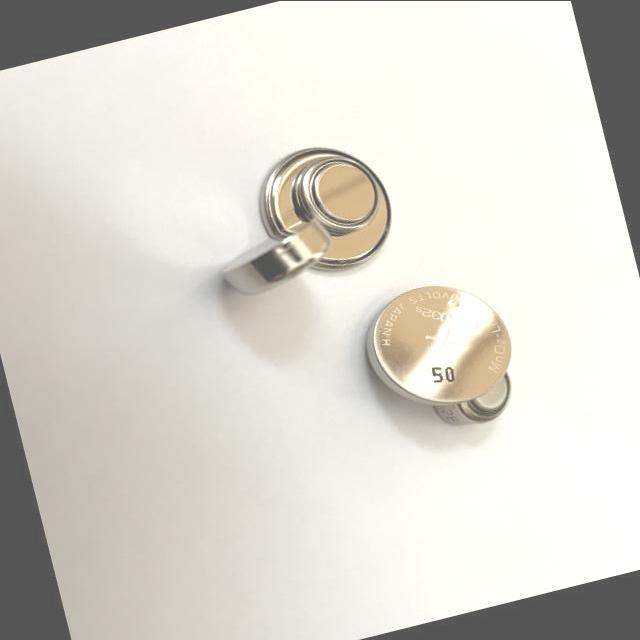COIN: (348, 269, 523, 424), (245, 130, 406, 289), (208, 214, 336, 310), (283, 150, 387, 246), (424, 356, 520, 439)
